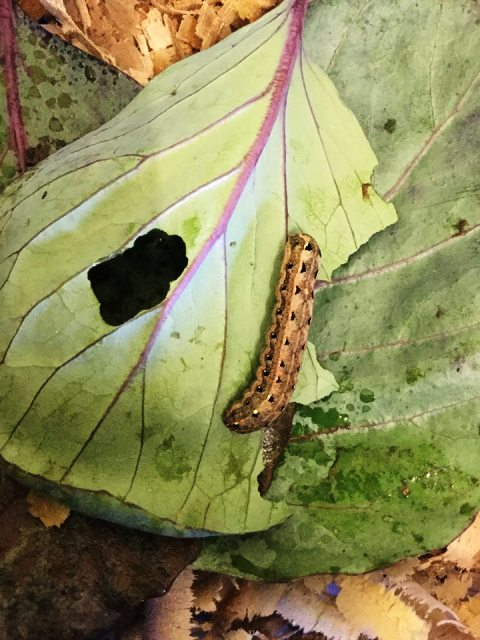Armyworm: (209, 215, 348, 443)
